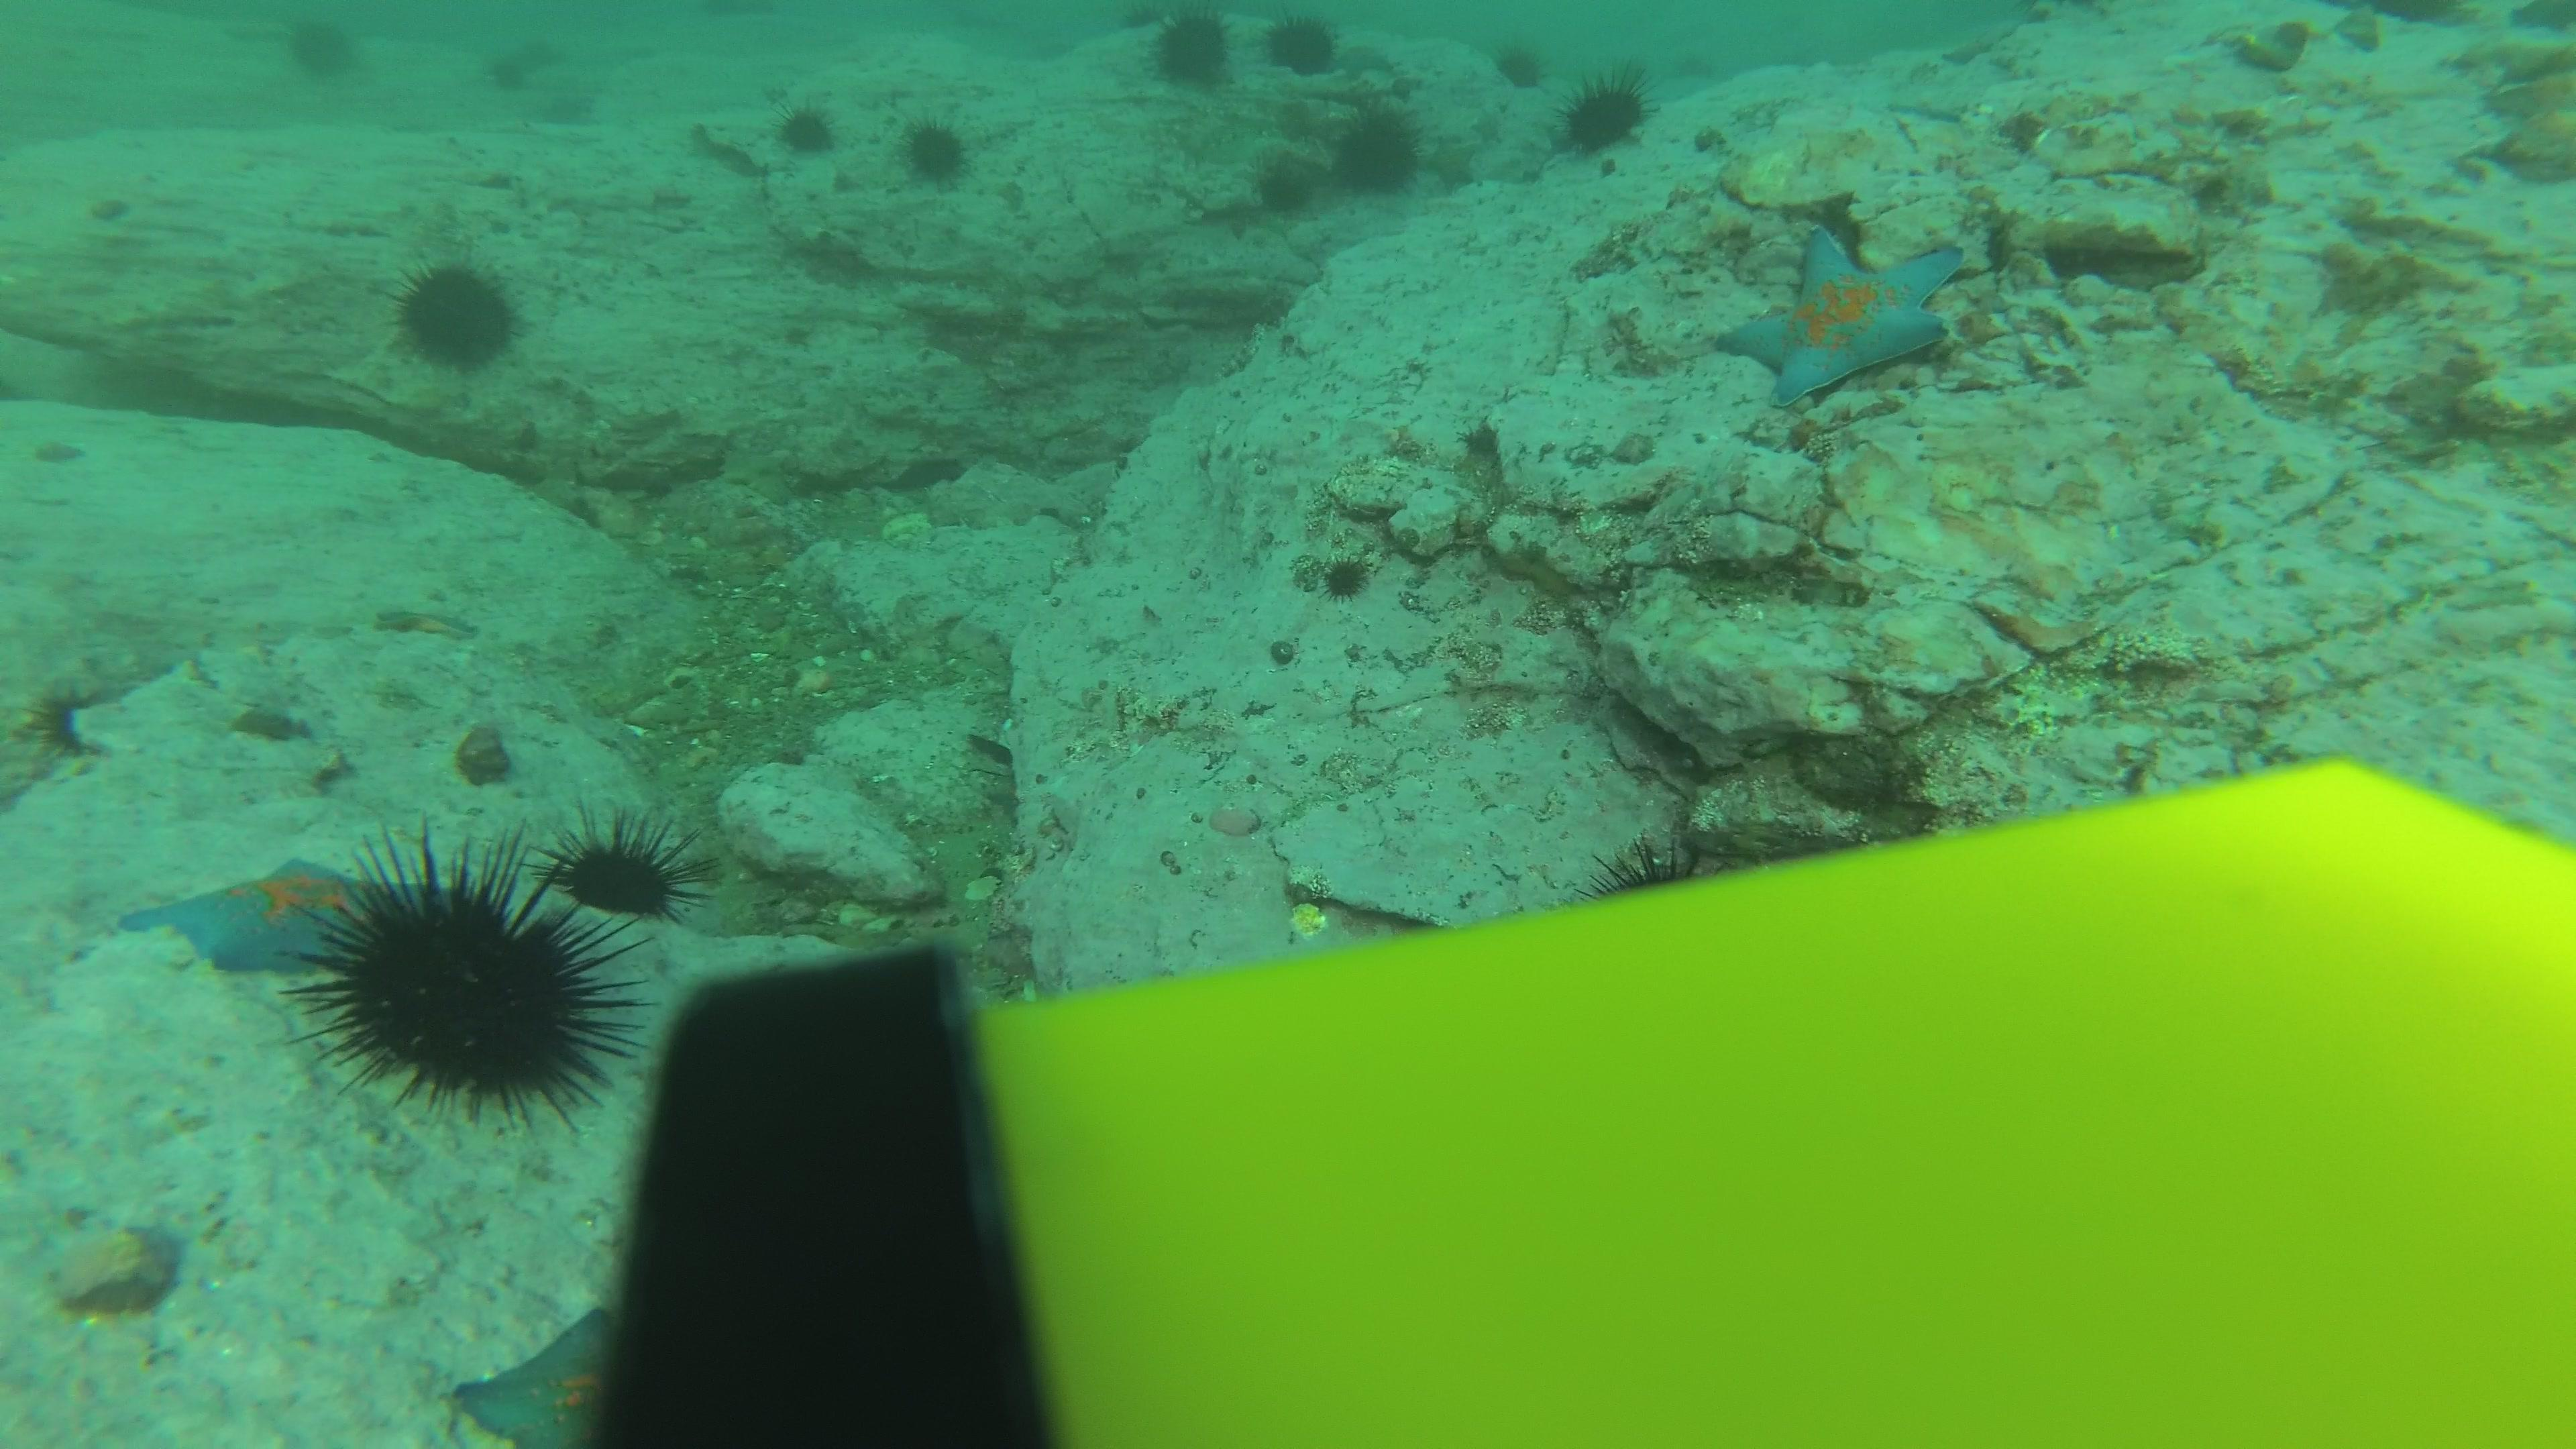urchin: (299, 837, 639, 1138), (384, 244, 520, 386), (556, 798, 697, 922), (1334, 108, 1433, 203), (21, 688, 122, 782), (1555, 73, 1638, 163), (890, 115, 984, 195), (1152, 14, 1235, 97), (773, 94, 847, 166), (1265, 5, 1348, 69), (292, 25, 370, 87), (1483, 30, 1560, 92), (1263, 159, 1322, 223), (1315, 548, 1375, 607)
